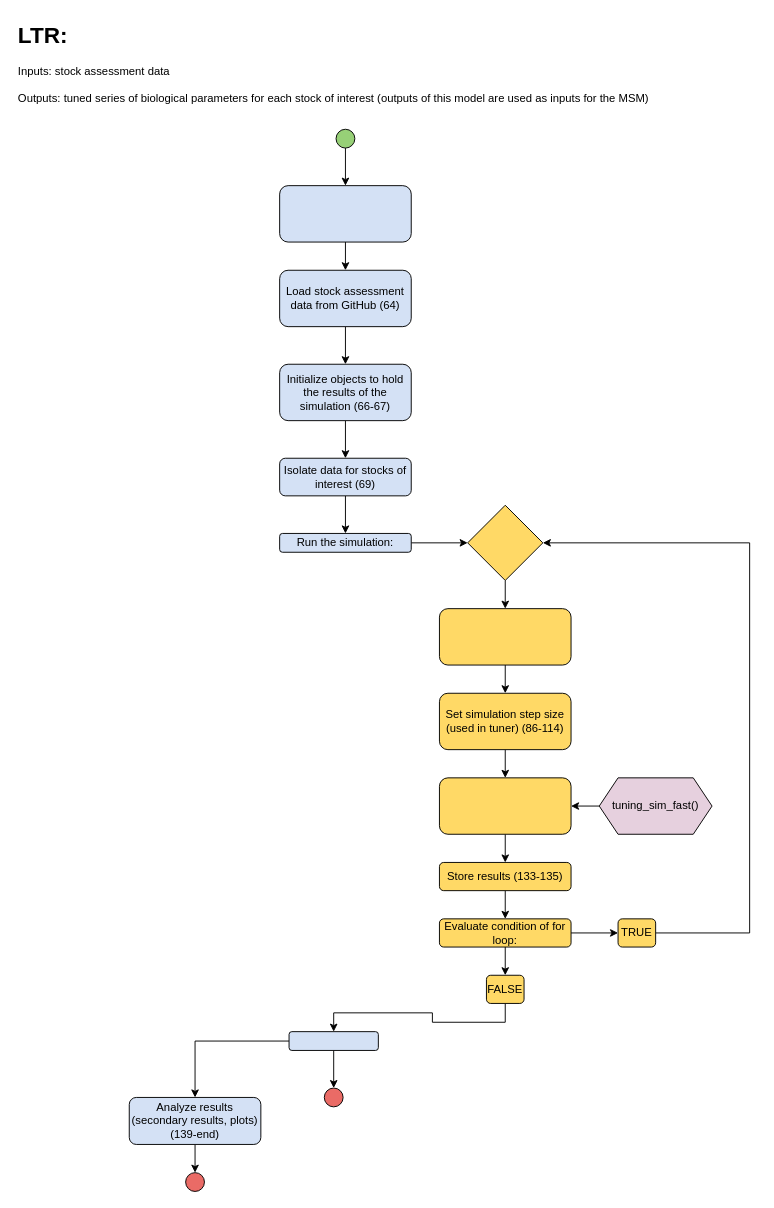
This 774x1208 diagram has some shape labels left out. The shapes that lost their labels are listed below. From the top down, each one's centre as x and y in pixels, then its label:
At point 345,213: "Set up simulation (number of sims, tuning model type, load functions) (34-60)".
At point 505,542: "FOR i in Stocks".
At point 505,636: "Pull parameters from stock assessment data (72-84)".
At point 505,805: "Run tuning simulation (116-132)".
At point 333,1040: "Exit for loop".
